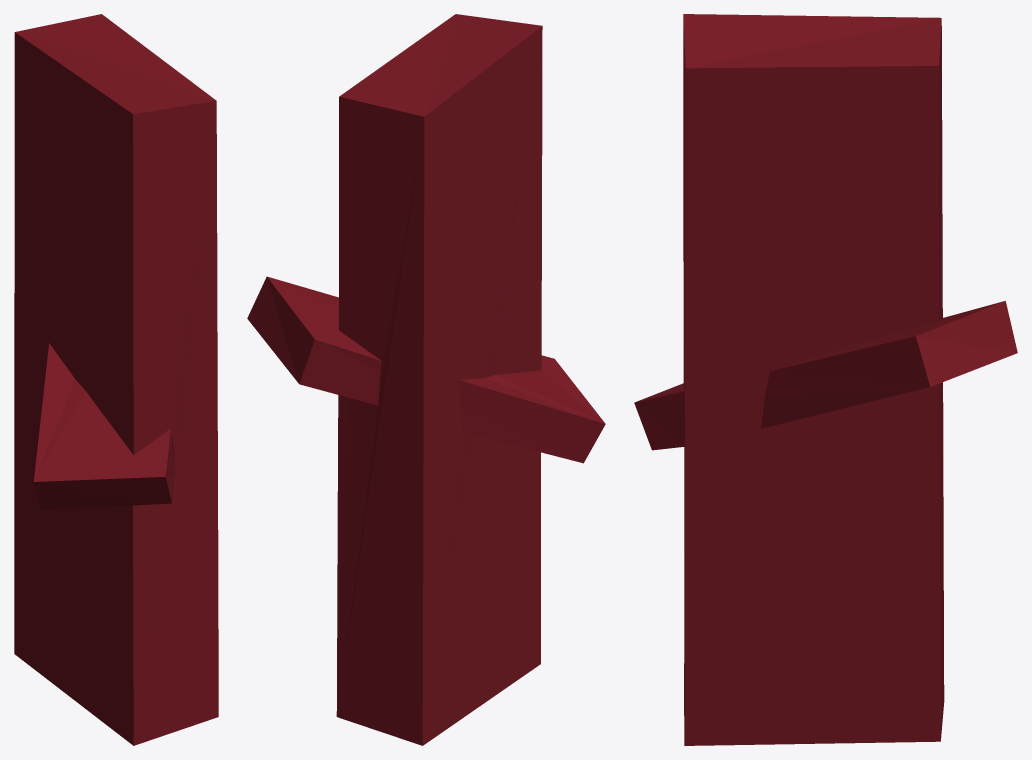
3 renders of one model, left to right at view 1: azimuth 30°, elevation 25°; view 2: azimuth 150°, elevation 25°; view 3: azimuth 270°, elevation 25°, orthographic. The views are drawn at different scales.
Parts seen in each view (by area): view 1: 493_Cube.1999; view 2: 493_Cube.1999; view 3: 493_Cube.1999.
Part boxes in pixels (box(x1,y1,x2,y2)): 493_Cube.1999: box(14, 14, 218, 745); 493_Cube.1999: box(247, 14, 605, 745); 493_Cube.1999: box(634, 14, 1017, 745).
Bounding box in the file's own units: 5.25 × 12.14 × 6.08.
